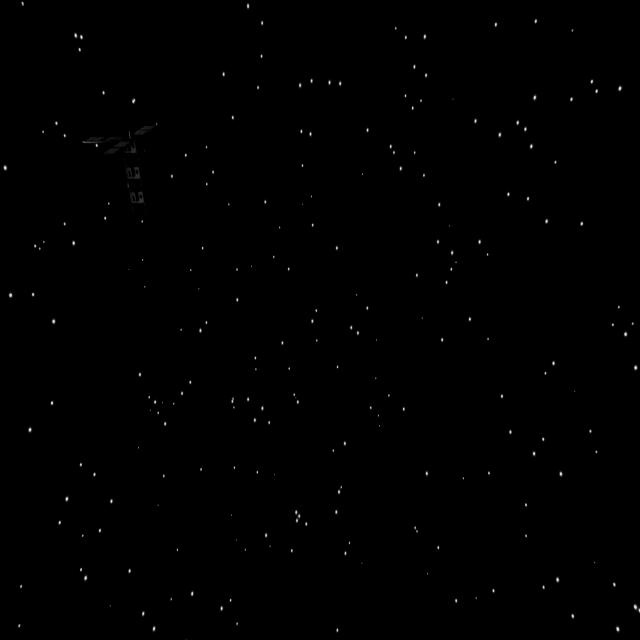satellite: (76, 107, 171, 209)
